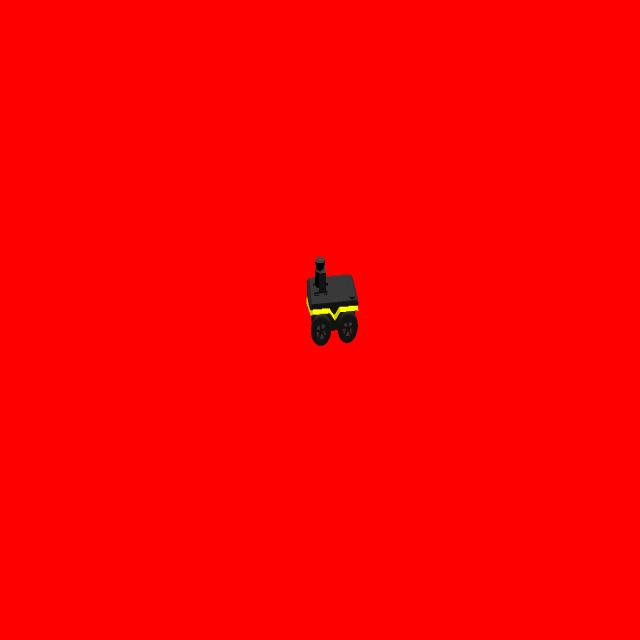jackal: (304, 253, 360, 347)
